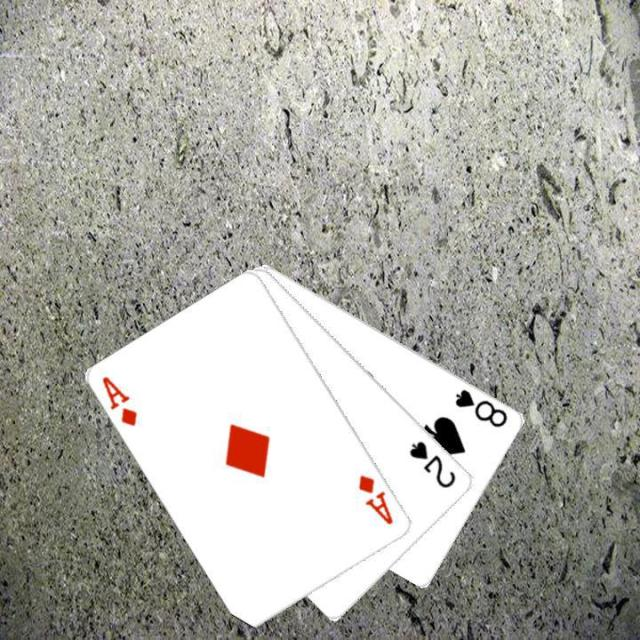2S: (405, 436, 459, 490)
8S: (452, 385, 510, 429)
AD: (354, 470, 396, 527), (98, 372, 140, 428)
